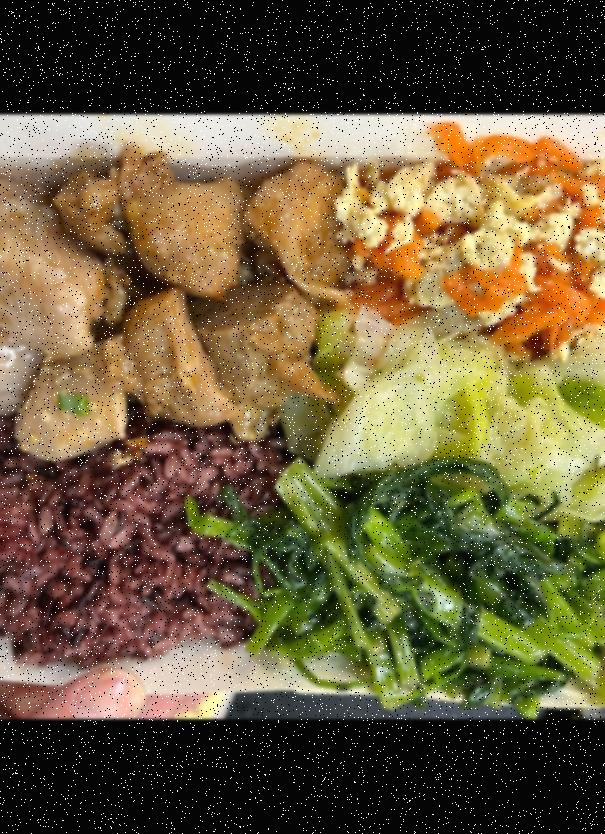box: (0, 114, 605, 719)
purple rice: (0, 421, 301, 669)
scallion chicken: (0, 162, 341, 454)
side dish: (239, 467, 605, 706), (341, 138, 605, 359), (330, 352, 605, 499)
